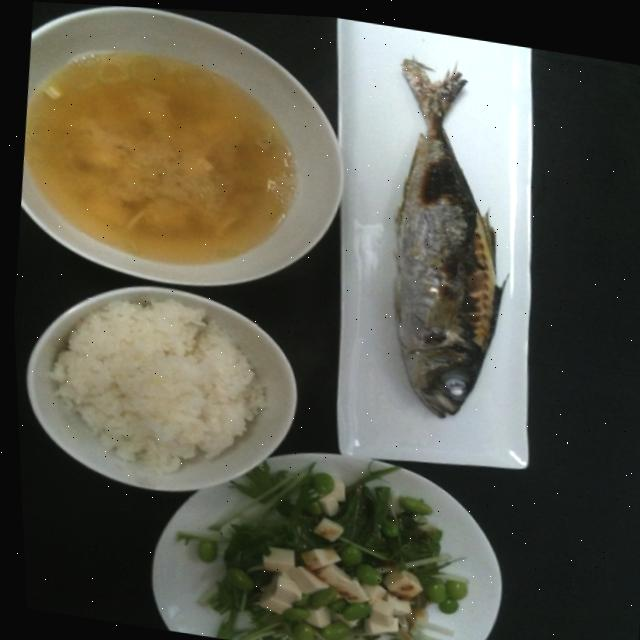汤锅炖物: (4, 0, 381, 319)
米饭主食: (9, 251, 306, 501)
蔬菜料理: (109, 413, 515, 640)
